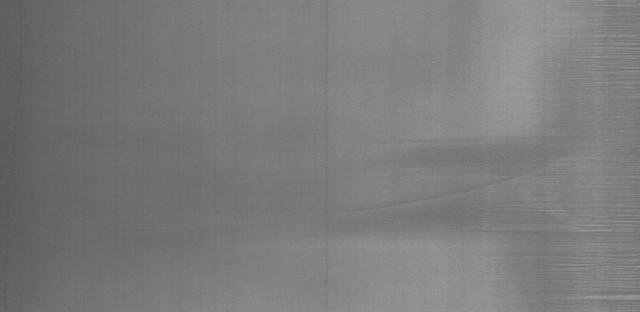waist_folding: (458, 44, 640, 301)
